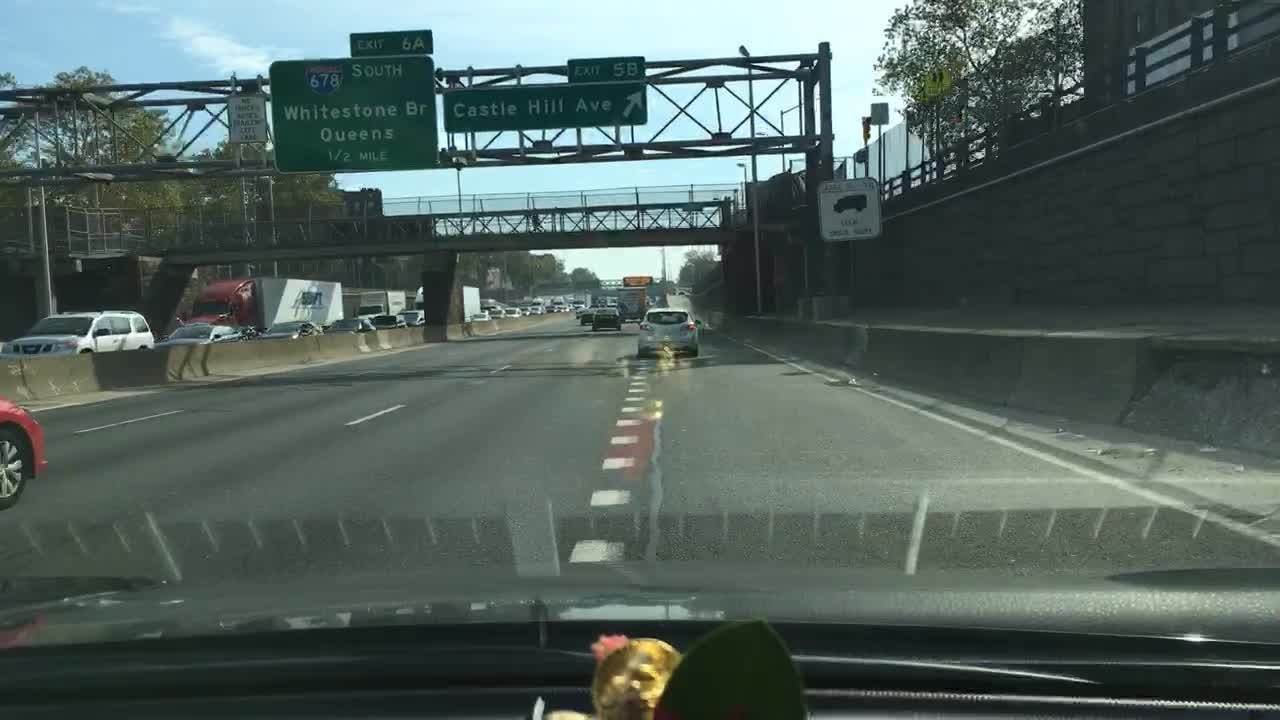car: (8, 306, 157, 360), (0, 392, 47, 518), (636, 302, 698, 355), (162, 322, 248, 348), (263, 320, 323, 342), (322, 316, 378, 337), (592, 307, 623, 332), (370, 313, 404, 331), (401, 309, 428, 328), (579, 307, 598, 326), (525, 301, 544, 316), (502, 304, 522, 316), (470, 310, 491, 320), (486, 304, 502, 315), (557, 303, 570, 313), (573, 298, 585, 307), (544, 304, 555, 313), (677, 290, 688, 295)
traffic sign: (265, 57, 440, 172), (443, 85, 647, 126), (815, 179, 884, 242), (349, 28, 434, 57), (569, 56, 645, 85), (225, 92, 263, 144), (924, 61, 955, 97), (871, 103, 887, 125)
truck: (181, 274, 343, 328), (457, 285, 484, 318), (622, 288, 648, 320)
